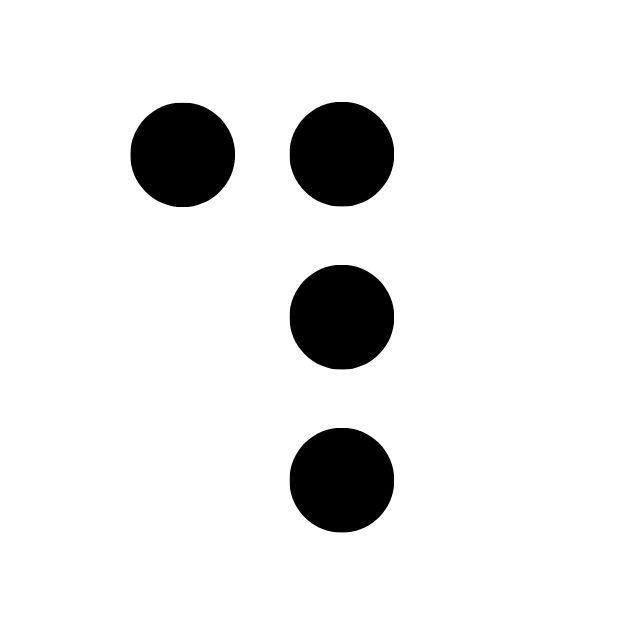pag: (128, 101, 391, 535)
